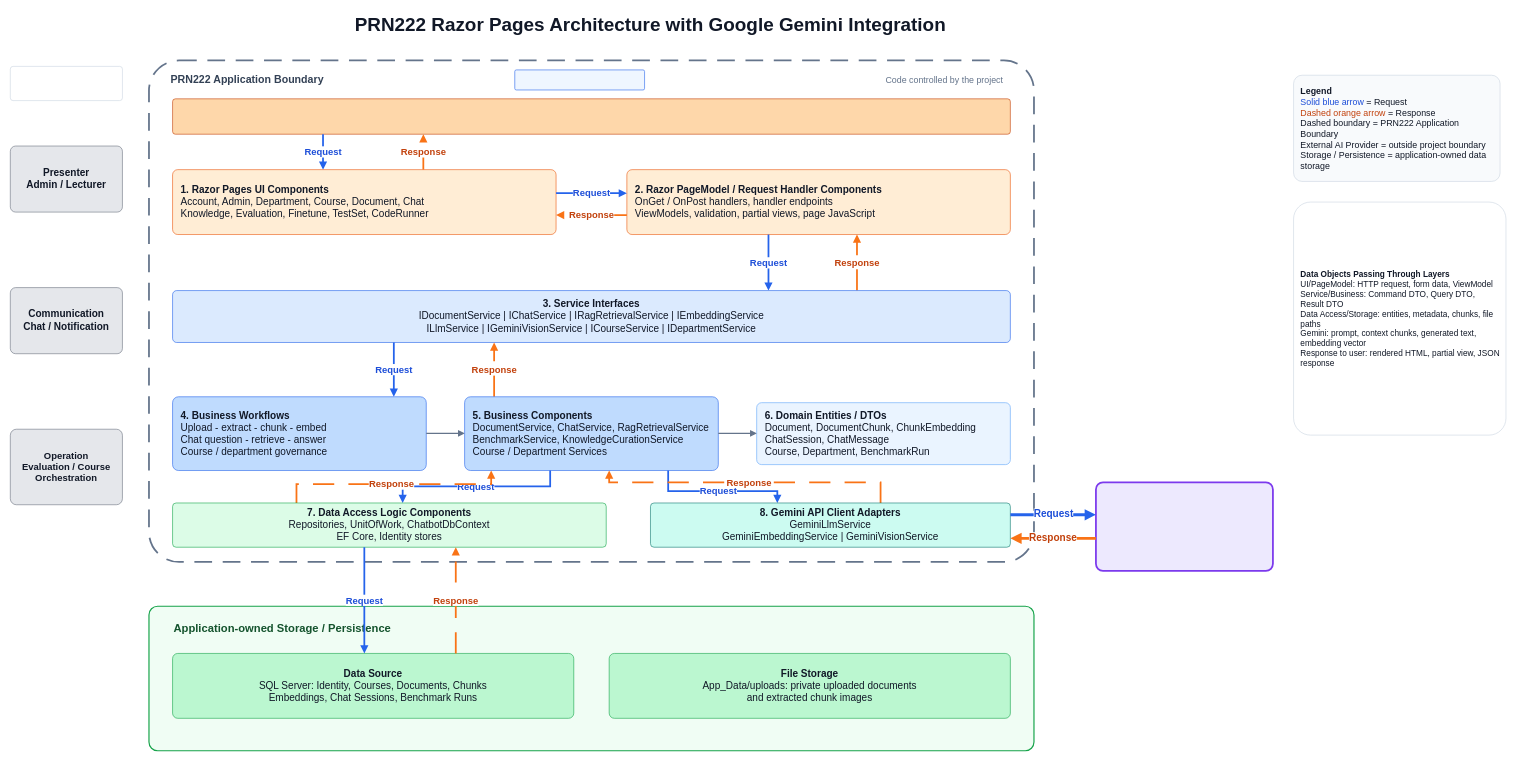
This 1516x761 diagram has some shape labels left out. Each missing label, with the centre of its shape:
"Data Exchange Flow" goes at [579,79].
"External AI Provider Google Gemini API generateContent embedContent" goes at [1184,526].
"Role / Responsibility Areas" goes at [66,83].
"Users: Admin | Head Lecturer | Lecturer | Student" goes at [591,116].
